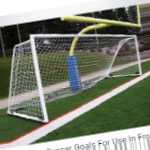goals: (5, 31, 143, 123)
